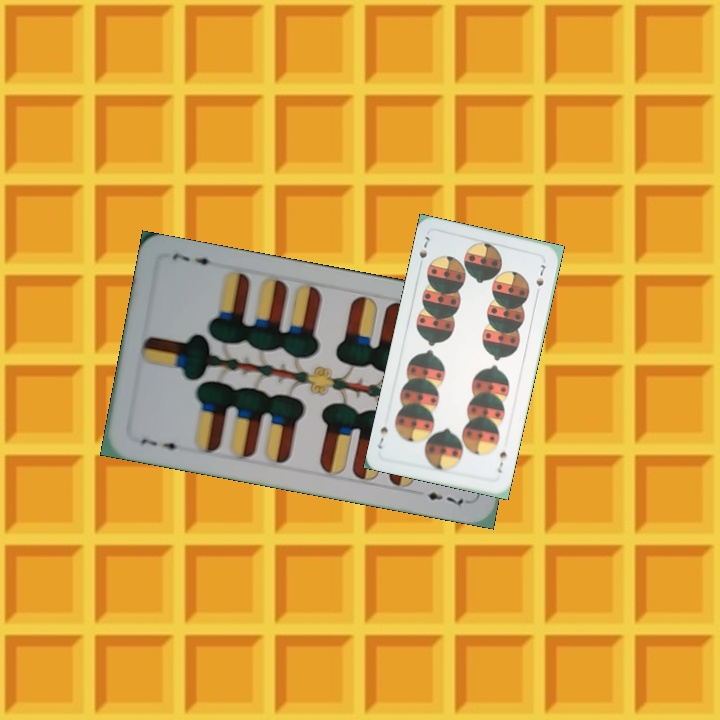E7: (137, 434, 186, 454)
S7: (415, 232, 433, 271), (493, 447, 509, 476)
